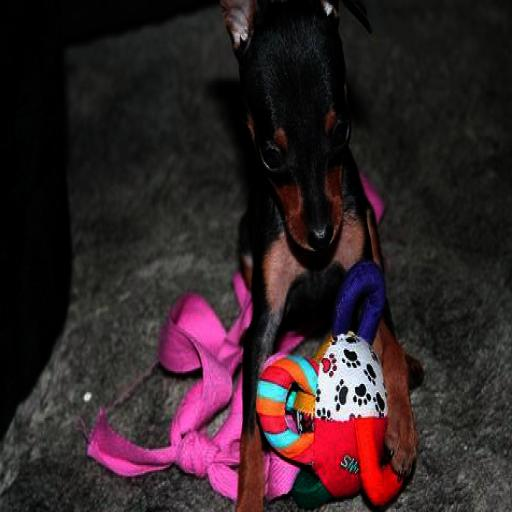dog_face: (217, 0, 373, 267)
